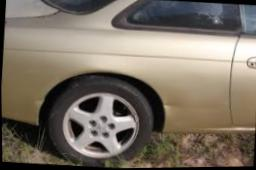Dickey: (5, 0, 56, 15)
Fender: (112, 23, 238, 134), (6, 71, 112, 124)
